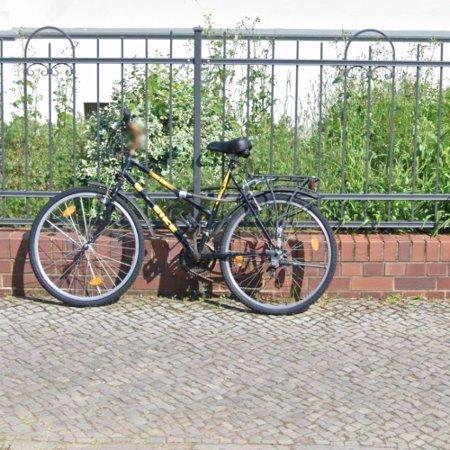bicycles: (29, 112, 337, 315)
